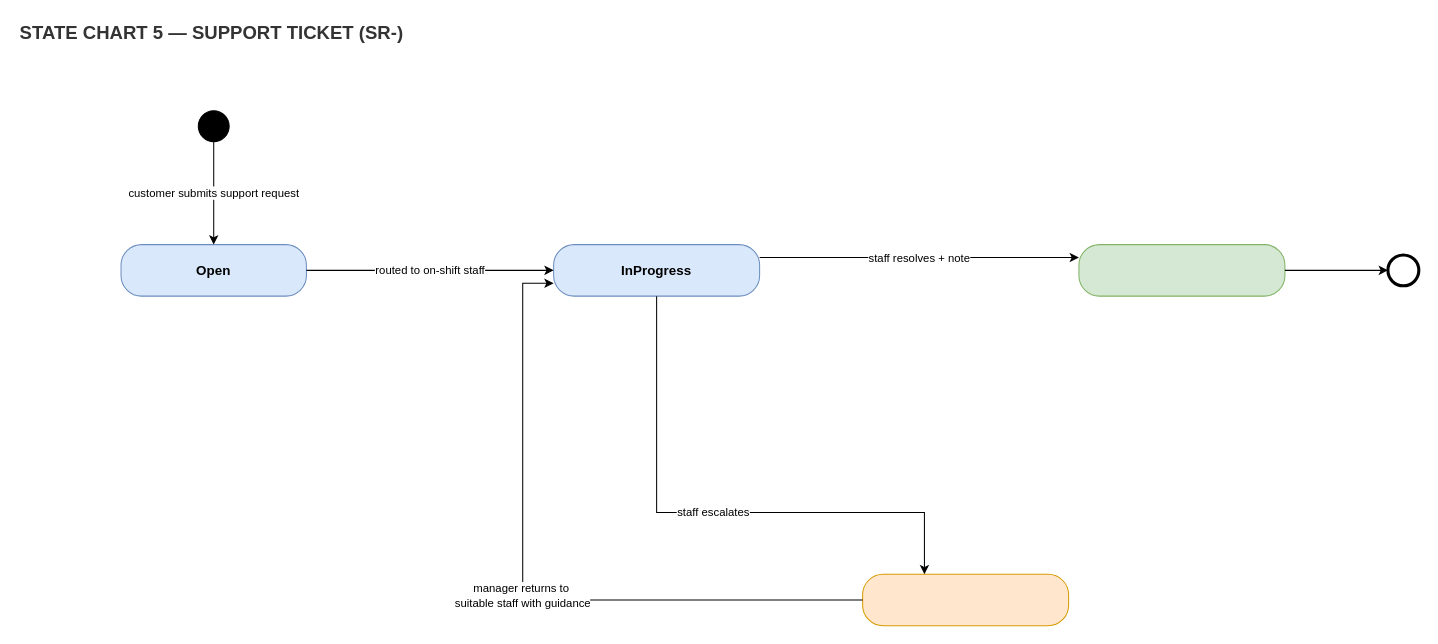
This 1438x644 diagram has some shape labels left out. The shapes that lost their labels are listed below. From the top down, each one's box as (x1, y1, x2, y2) in pixels, then its label:
(1078, 244, 1285, 296): Resolved
(862, 573, 1069, 626): Escalated
